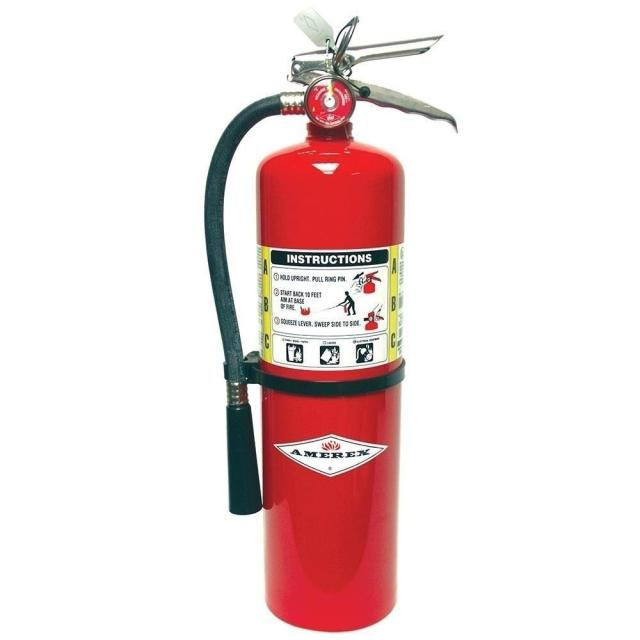fire_extinguisher: (199, 2, 463, 634)
